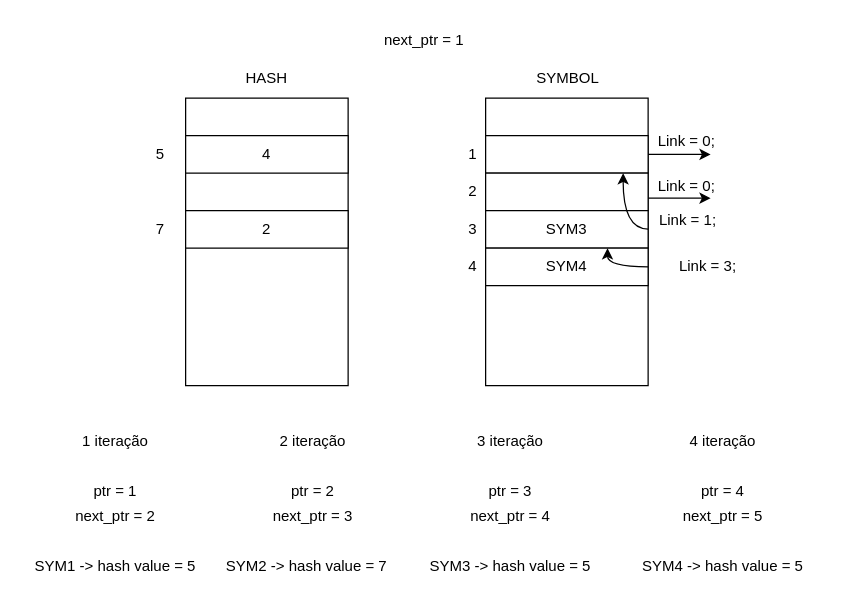
This 863x606 diagram has some shape labels left out. The centre of each missing label's shape, as x and y in pixels:
SYM1: point 566,153
SYM2: point 566,191
